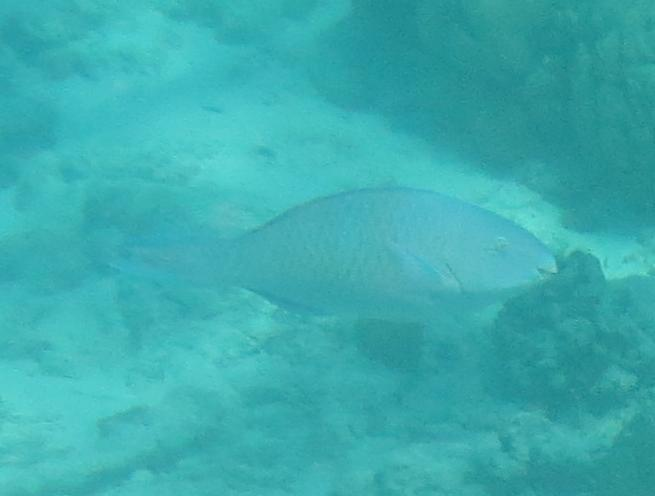Scarus rubroviolaceus: (75, 134, 617, 378)
